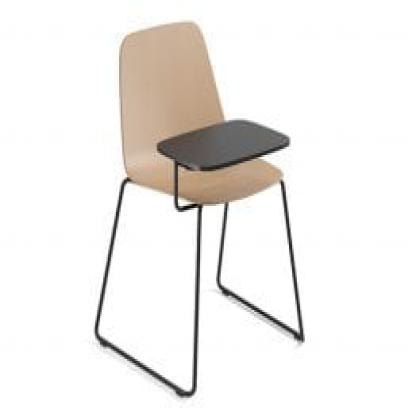chair: (92, 18, 316, 413)
